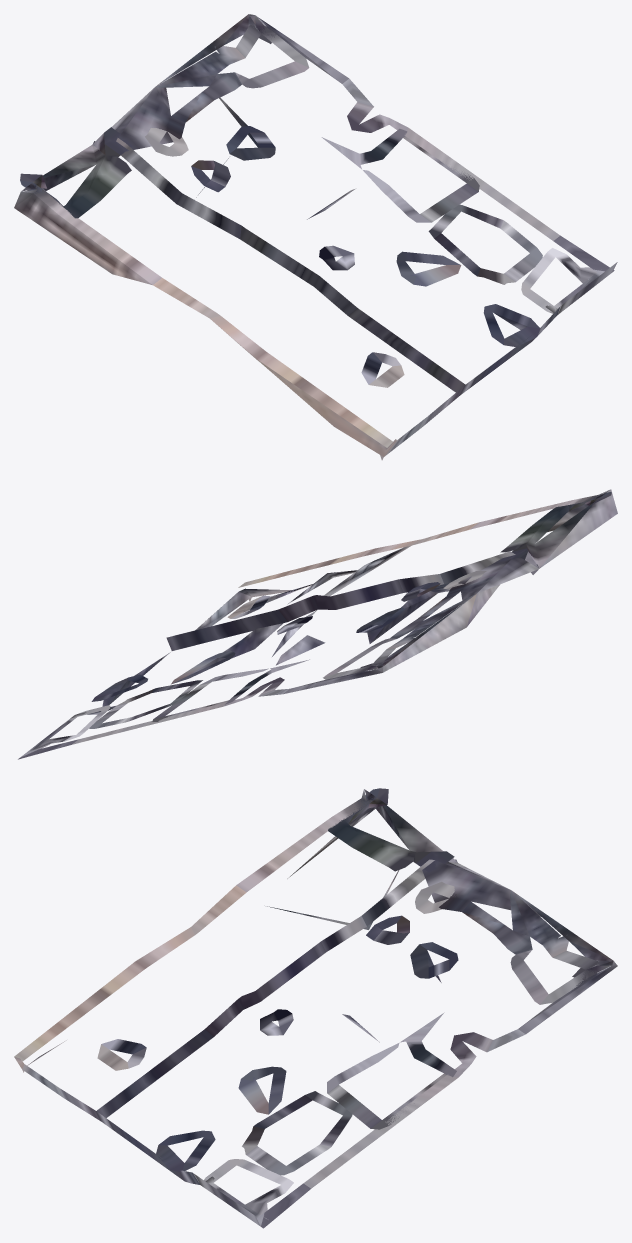
3 views of the same model, one above another, from view 1: azimuth 30°, elevation 25°; view 2: azimuth 210°, elevation 25°; view 3: azimuth 270°, elevation 25° (orthographic).
Size of the model in its own units: 38.73 by 13.39 by 37.22.
Materials: 1 (1 with a texture image).
